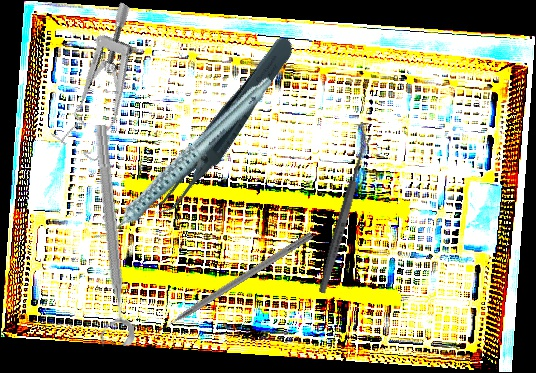Fixation Ring: (76, 123, 136, 349)
Handpiece: (66, 74, 299, 244)
Hook Surgical: (153, 230, 314, 335)
Speculum: (39, 1, 176, 164)
Surgical Spoon: (316, 133, 373, 295)
Tissue Forceps: (112, 32, 326, 224)
